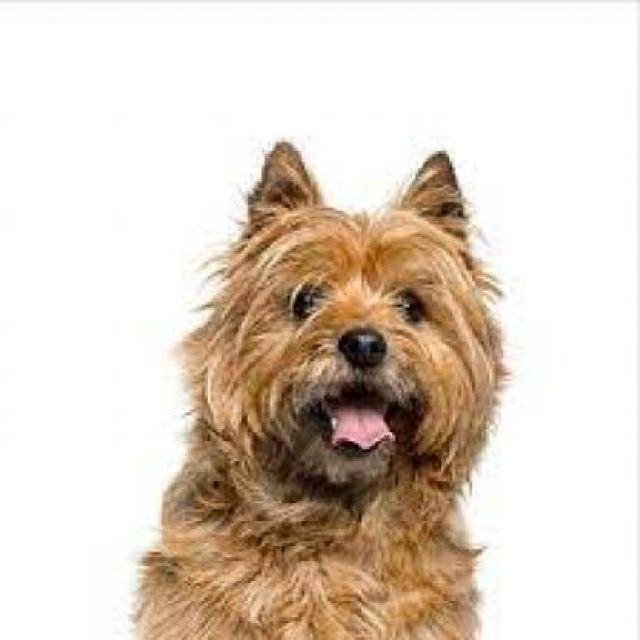animals: (148, 129, 484, 640)
